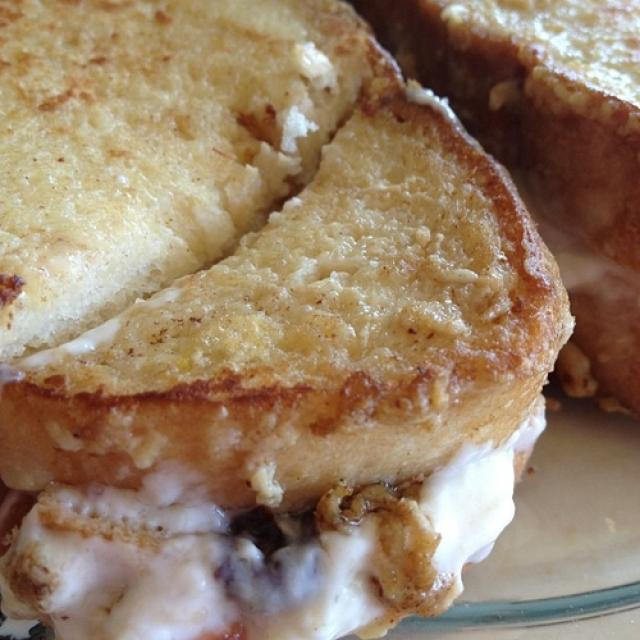面包点心: (1, 3, 635, 631)
